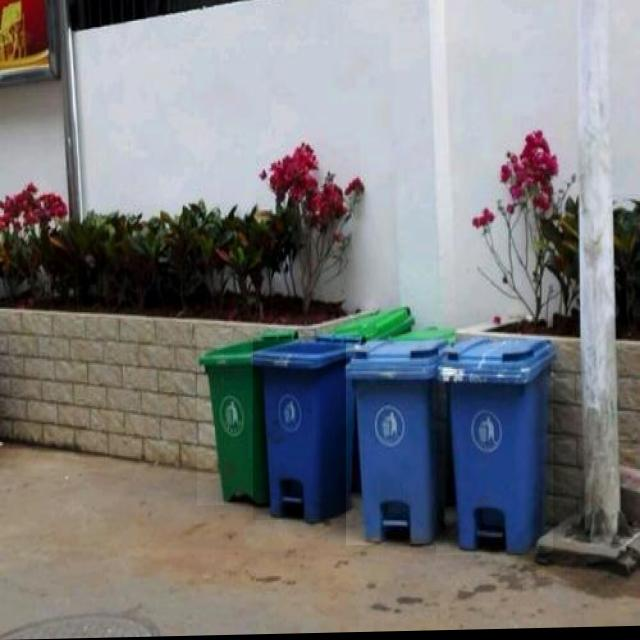garbage_bin: (436, 335, 553, 557), (346, 342, 449, 547), (253, 337, 365, 521), (197, 328, 297, 507)
